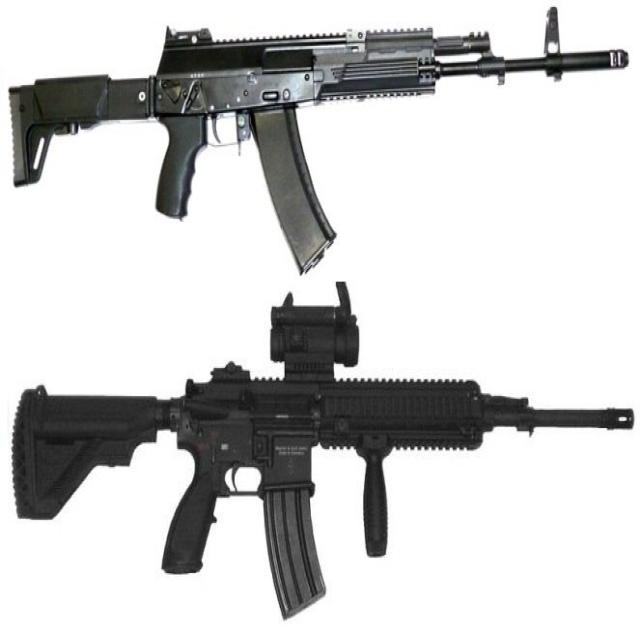firearm: (10, 275, 636, 622), (6, 5, 631, 279)
